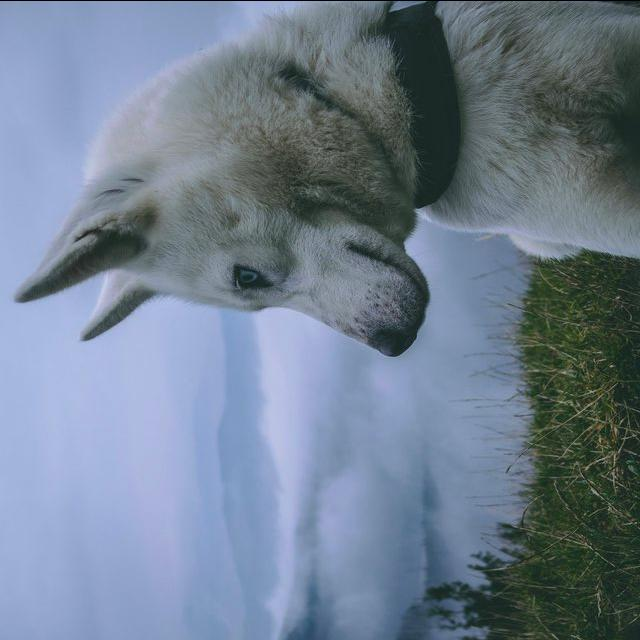husky: (11, 1, 638, 358)
